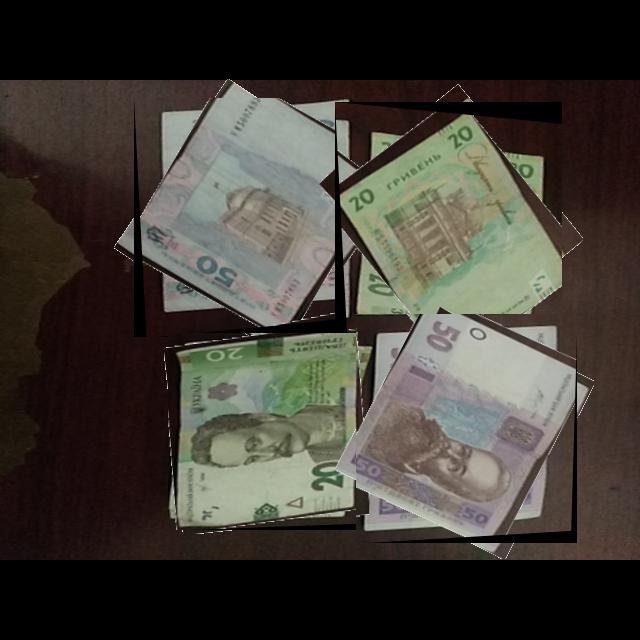20uah: (335, 102, 563, 338), (168, 333, 372, 531)
50uah: (134, 98, 368, 338), (356, 314, 578, 544)
